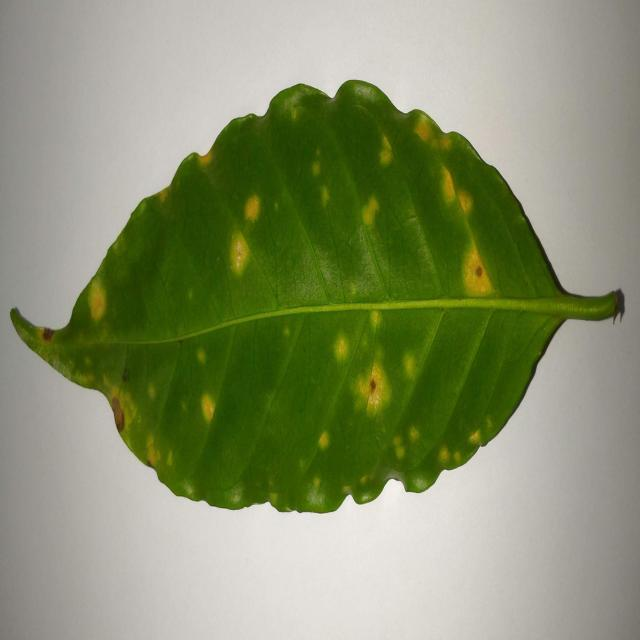rust: (408, 109, 458, 151), (357, 359, 392, 416), (462, 241, 495, 296), (223, 229, 252, 288), (441, 163, 473, 216), (107, 387, 132, 443), (298, 477, 332, 513), (243, 191, 273, 229), (138, 435, 161, 472), (89, 278, 107, 322), (362, 194, 383, 226), (377, 134, 393, 176), (402, 346, 421, 381), (200, 390, 218, 426), (333, 334, 352, 362), (198, 147, 213, 171), (438, 442, 451, 468), (317, 430, 333, 451), (468, 427, 483, 448), (407, 426, 421, 447), (156, 184, 171, 203), (370, 310, 383, 330)
